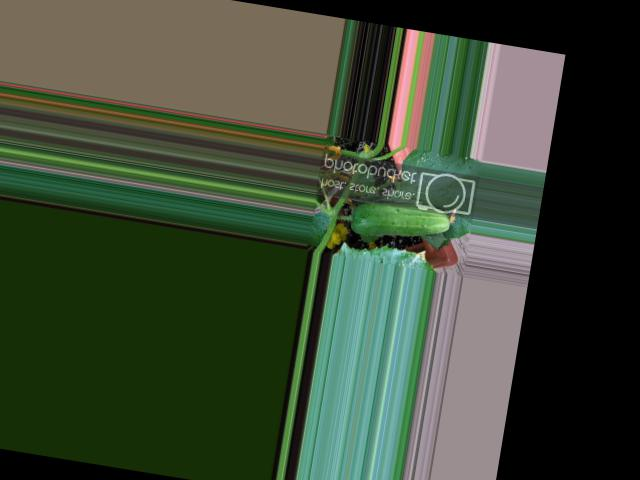cucumber: (350, 193, 453, 248)
